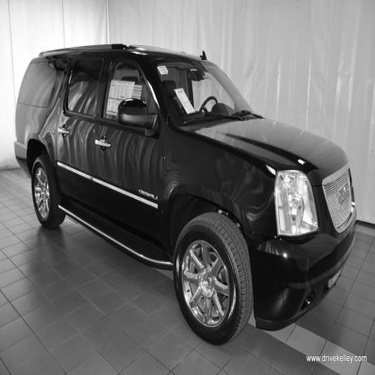car: (7, 41, 362, 349)
